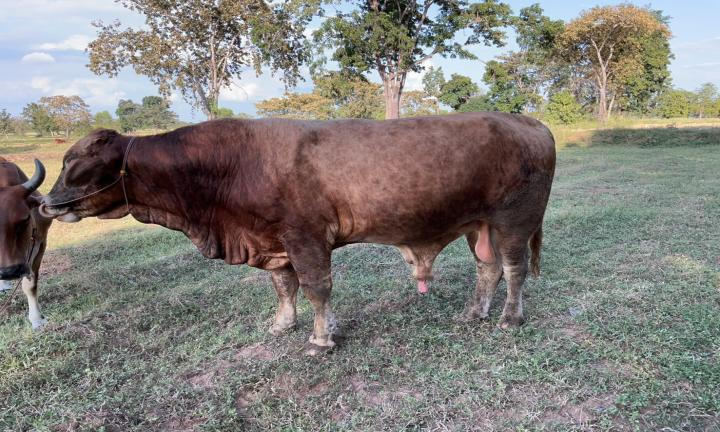Charolais: (40, 112, 555, 354)
